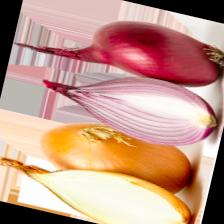onion: (30, 52, 224, 156), (12, 0, 224, 95), (0, 142, 199, 224), (31, 110, 198, 200)
